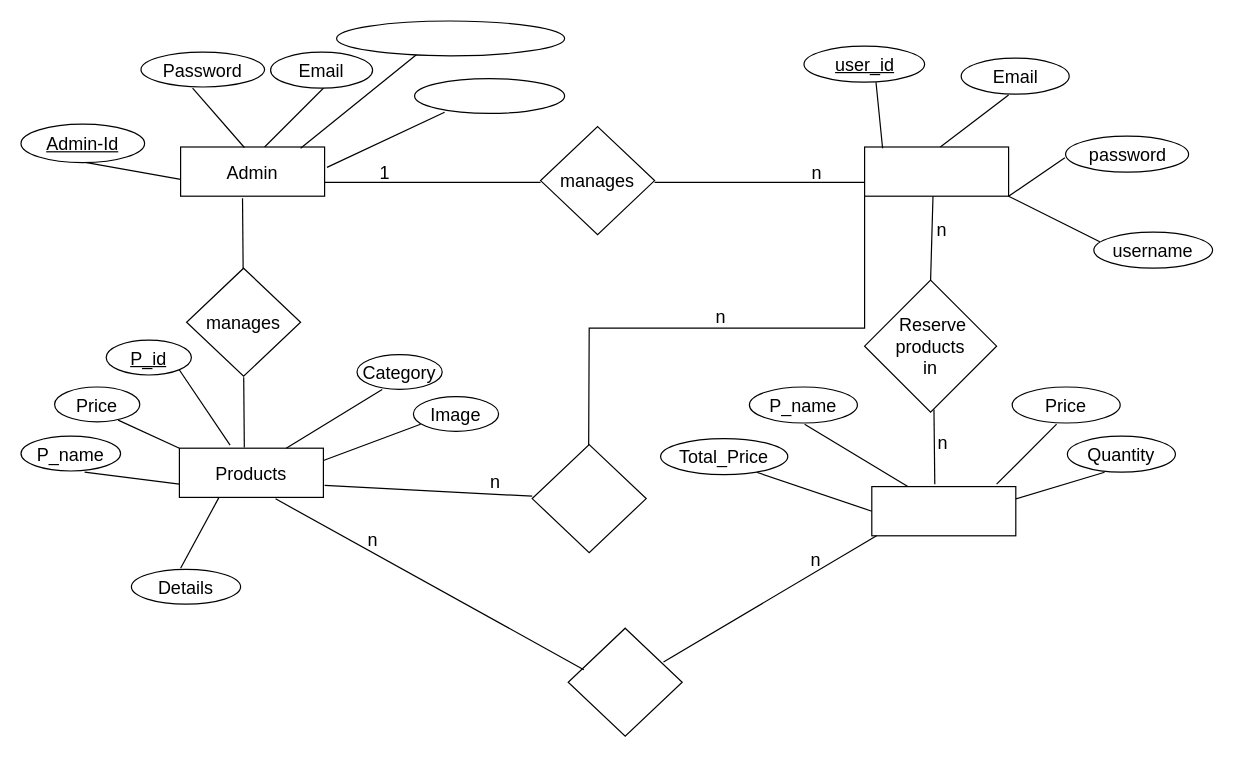
Image size: 1234x757. Some labels were removed from this diagram. The box of each missing label's shape, as (x1, y1, x2, y2) in pixels:
Add Product: (413, 77, 565, 113)
Customer: (863, 146, 1009, 196)
Edit/Delete product: (335, 20, 565, 56)
Order: (531, 443, 646, 553)
Purchase: (567, 627, 682, 736)
Shopping Cart: (871, 485, 1016, 536)
